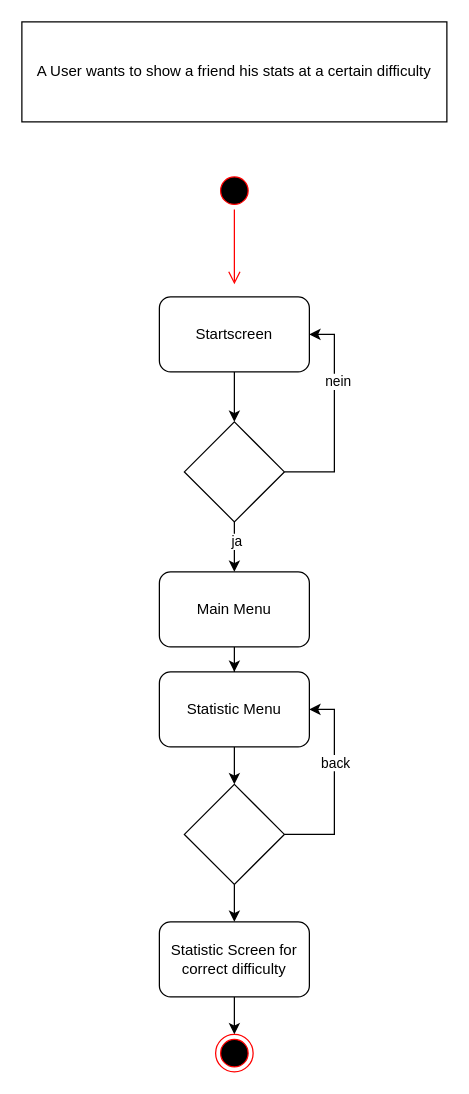
Image size: 469x1094. Some labels were removed from this diagram. The shapes that lost their labels are listed below. From the top down, each one's centre as x and y in pixels, then its label:
point 233,471: (Login correct)
point 233,833: selected correct difficulty Stats
